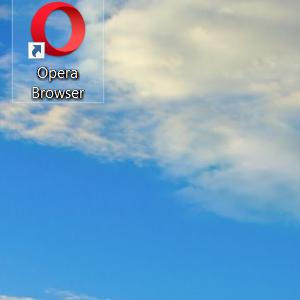opera: (27, 1, 85, 60)
